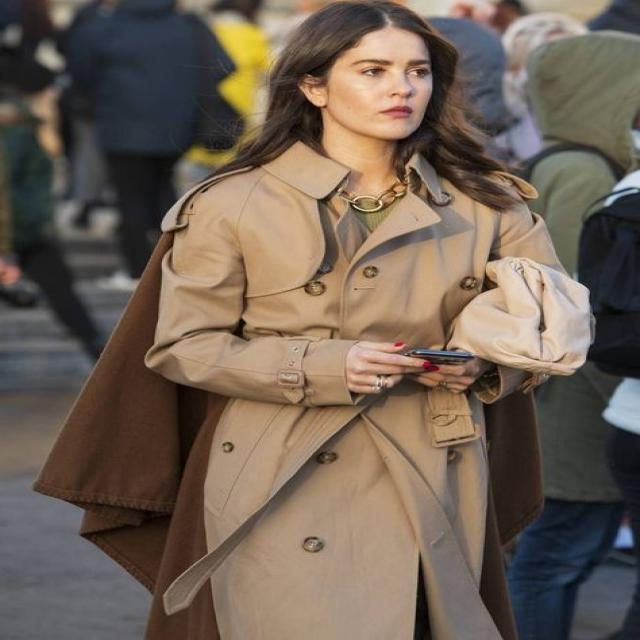coat: (143, 134, 583, 640), (514, 29, 639, 502), (64, 9, 241, 161), (0, 104, 61, 263)
